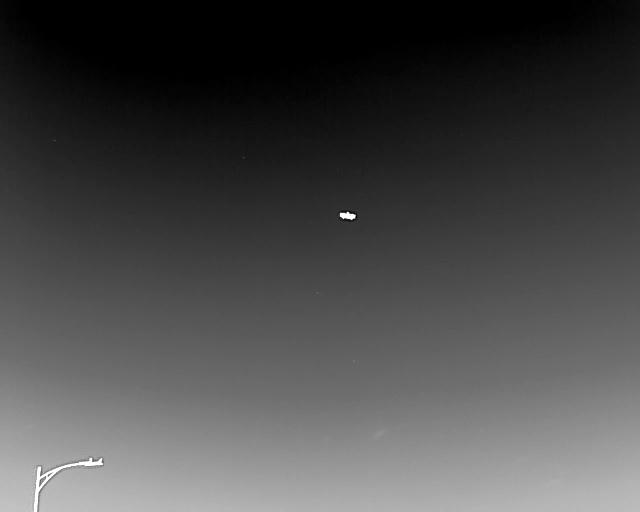fpv-drone: (338, 210, 357, 221)
